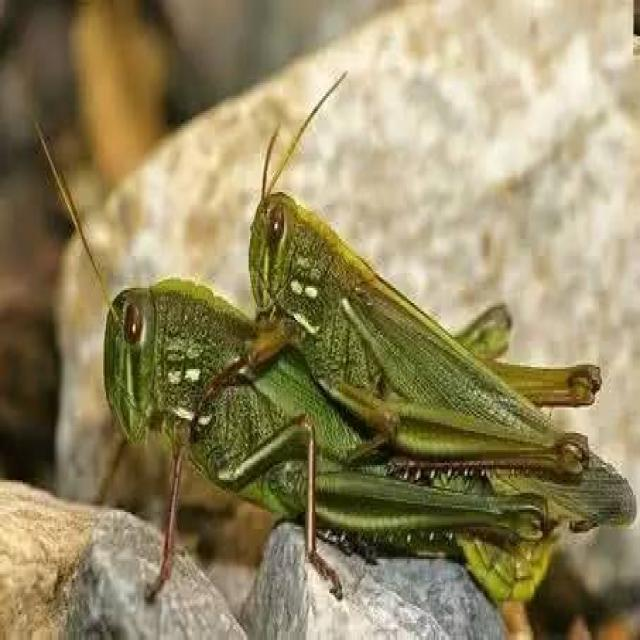ZhaMeng: (30, 136, 631, 621), (220, 149, 637, 552)
